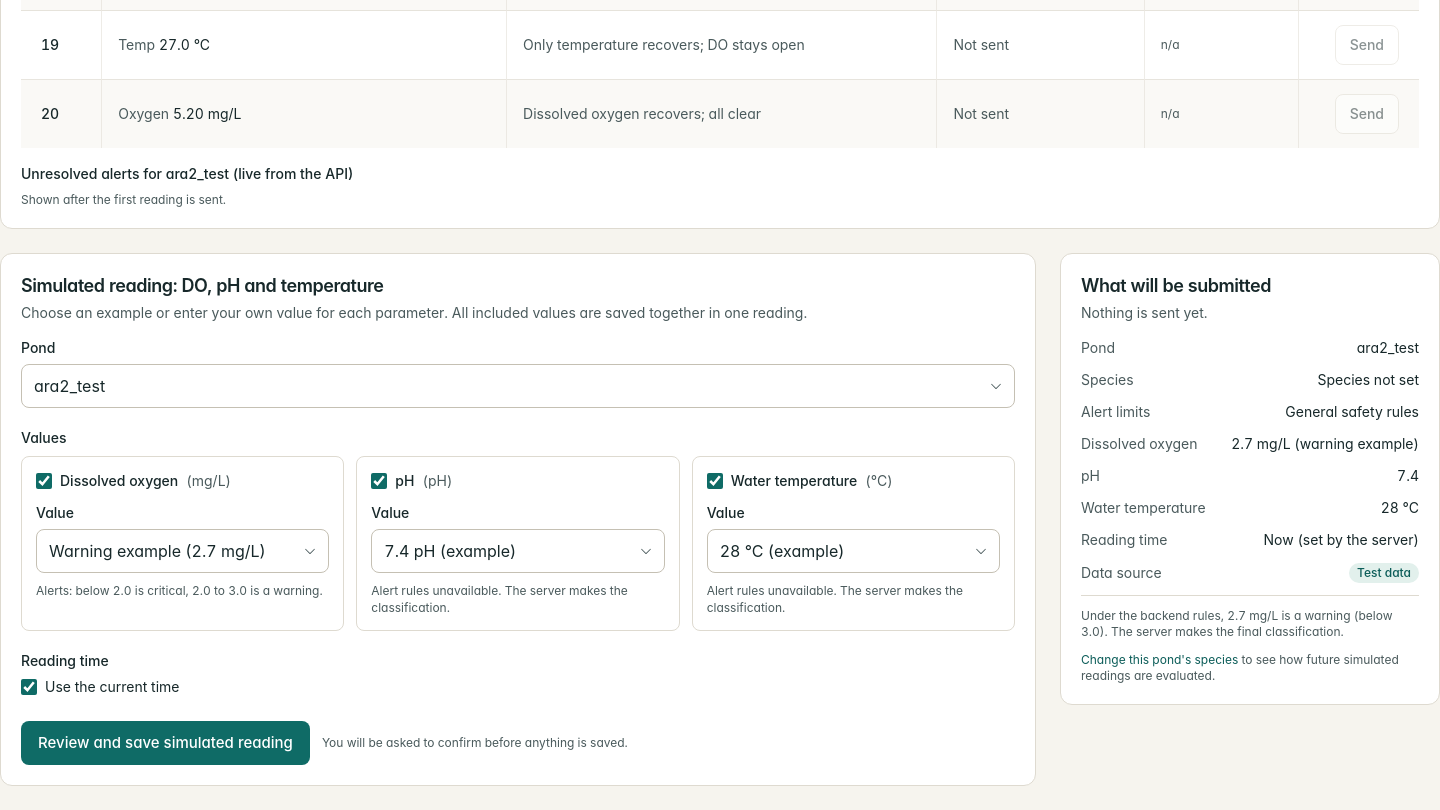
simulation: one reading, three parameters › presets: DO preset is sent as a scenario, pH and temperature presets as numbers
(page scrolled)
Expected: the heading "Simulated reading: DO, pH and temperature" is shown, [21, 275, 384, 296]
Step 1. Select "Critical example (1.8 mg/L)" in the 1st dropdown labelled "Value" → point(183, 551), box [36, 529, 329, 573]
(page scrolled)
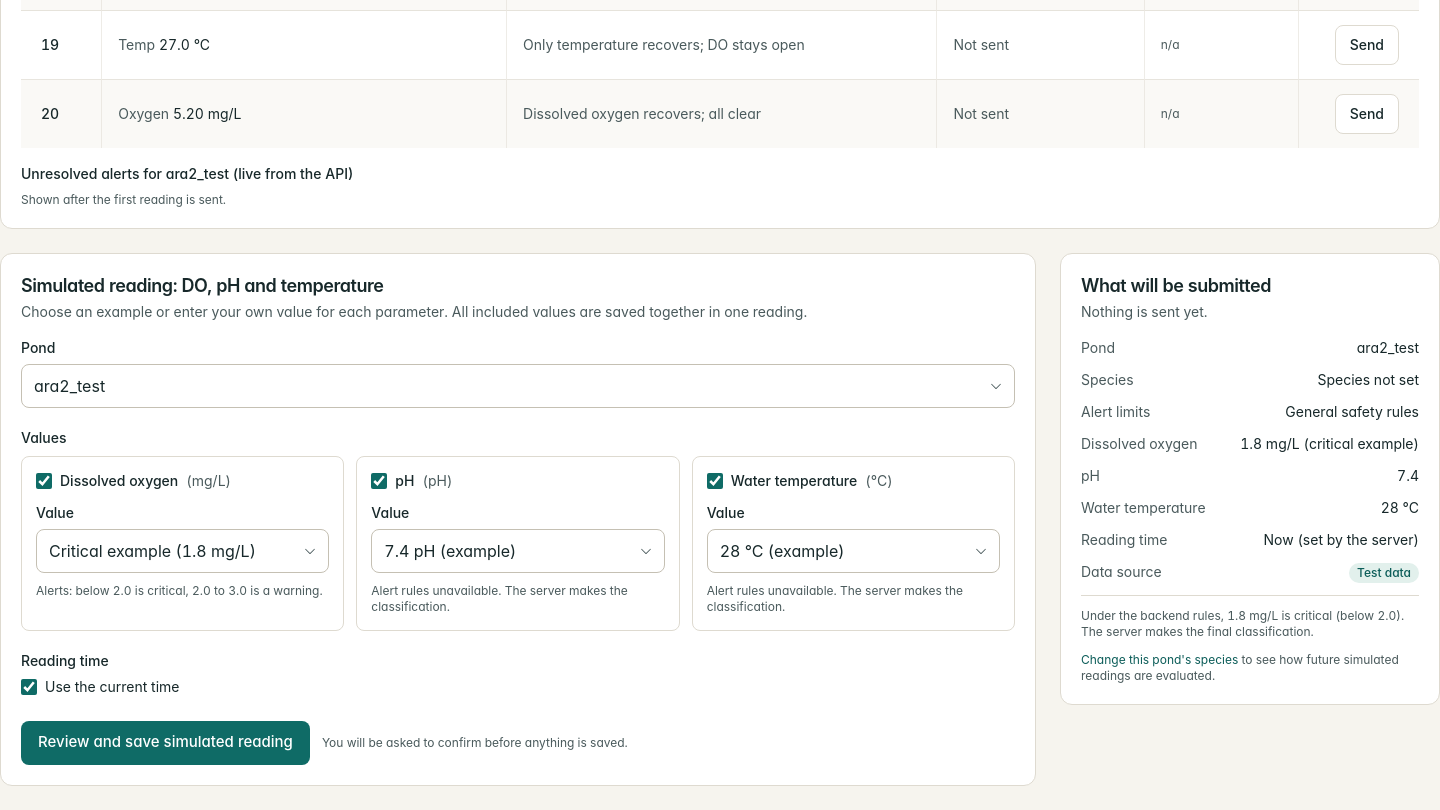
Step 2. Select "8.5 pH (example)" in the 2nd dropdown labelled "Value" → point(518, 550), box [371, 528, 665, 572]
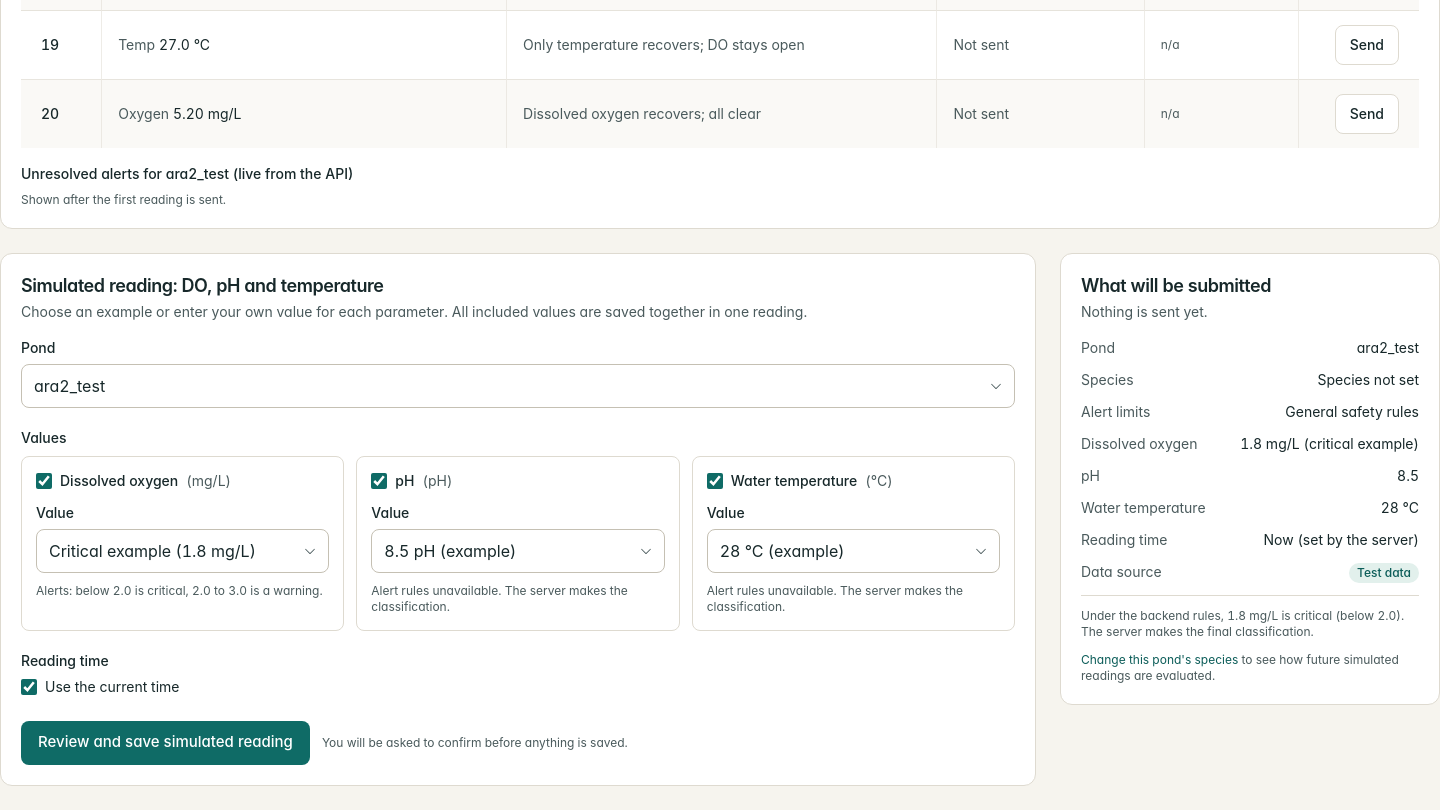
Step 3. Select "32 °C (example)" in the 3rd dropdown labelled "Value" → point(853, 550), box [707, 528, 1000, 572]
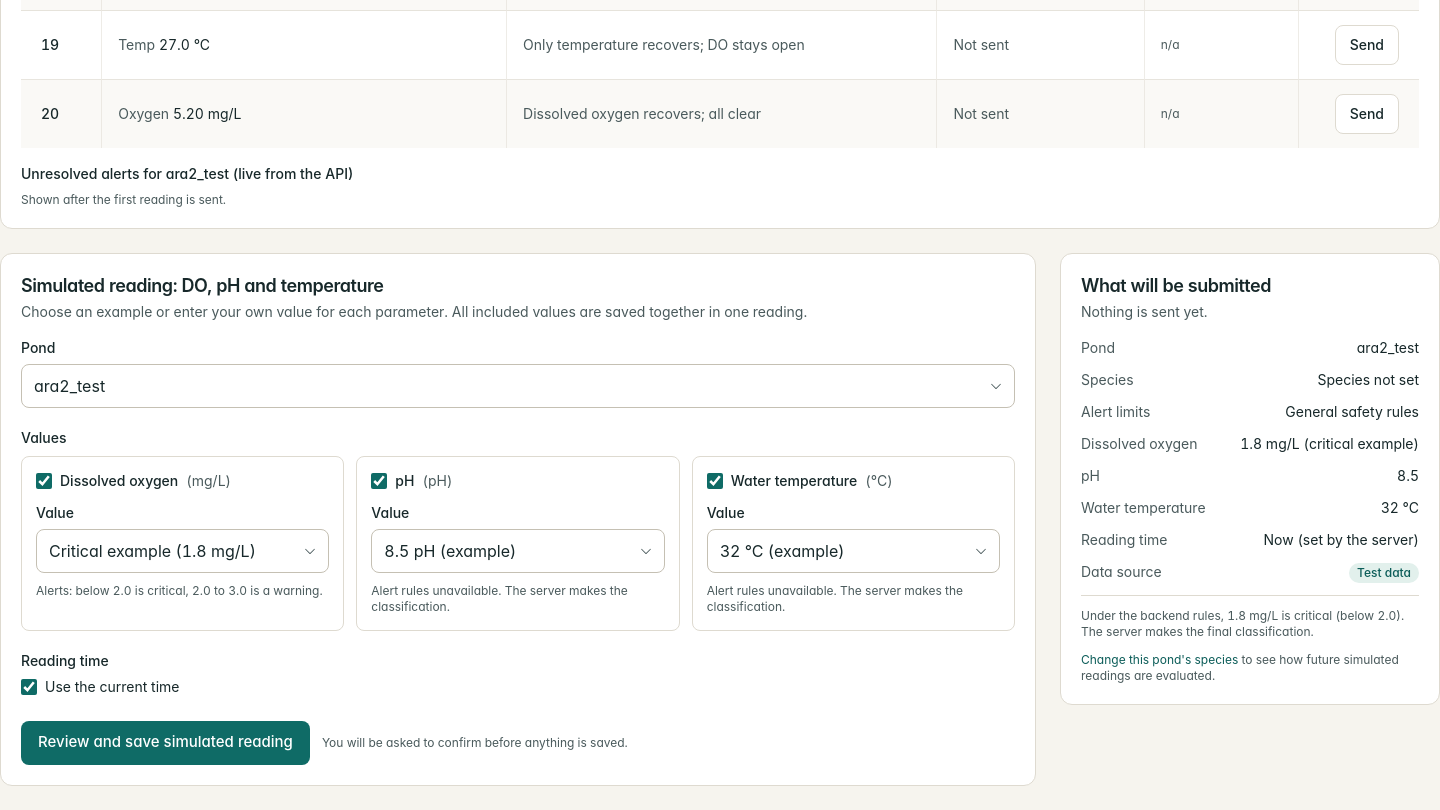
Step 4. Click the button "Review and save simulated reading" → point(165, 742), box [21, 720, 310, 764]
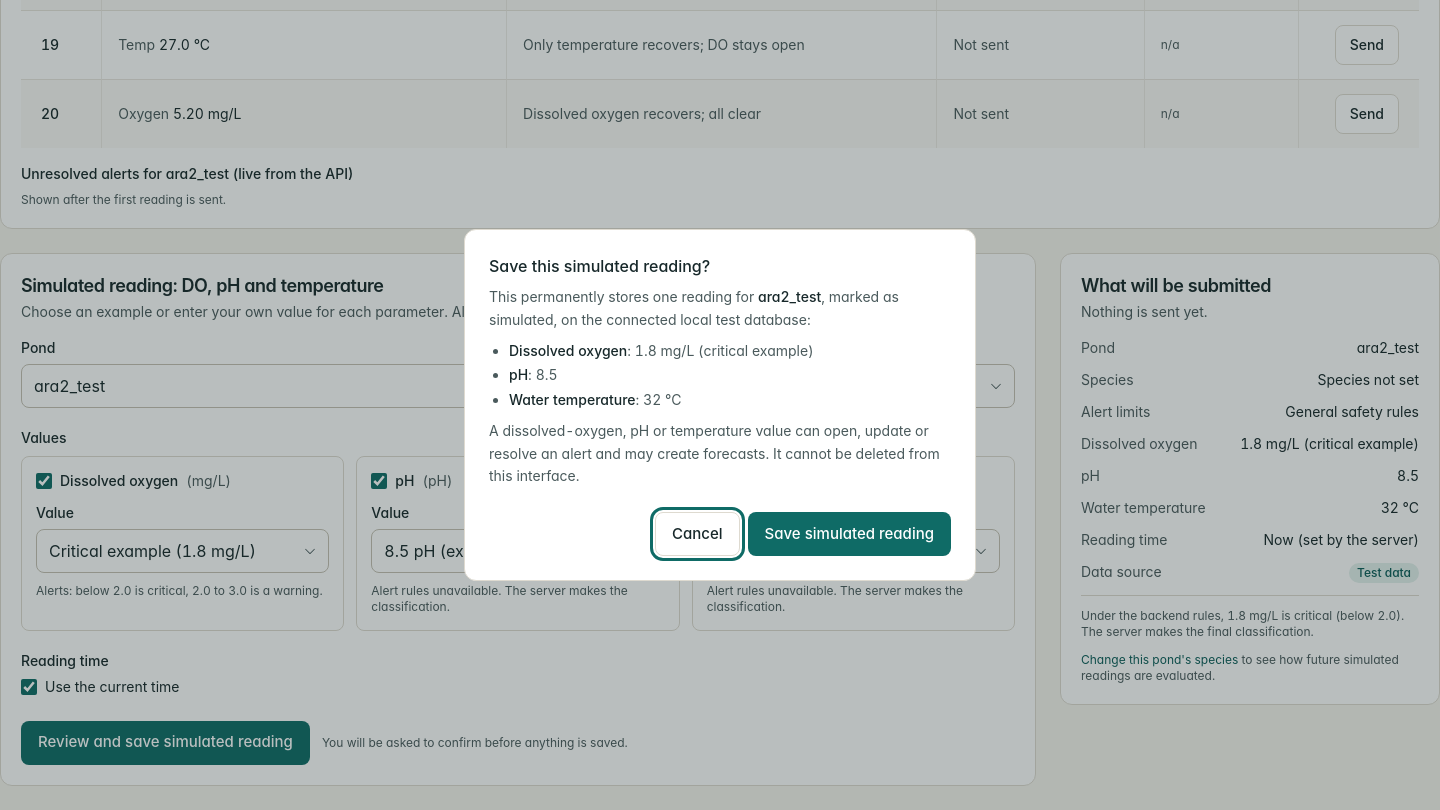
Step 5. Click the button "Save simulated reading" → point(849, 534), box [748, 512, 951, 556]
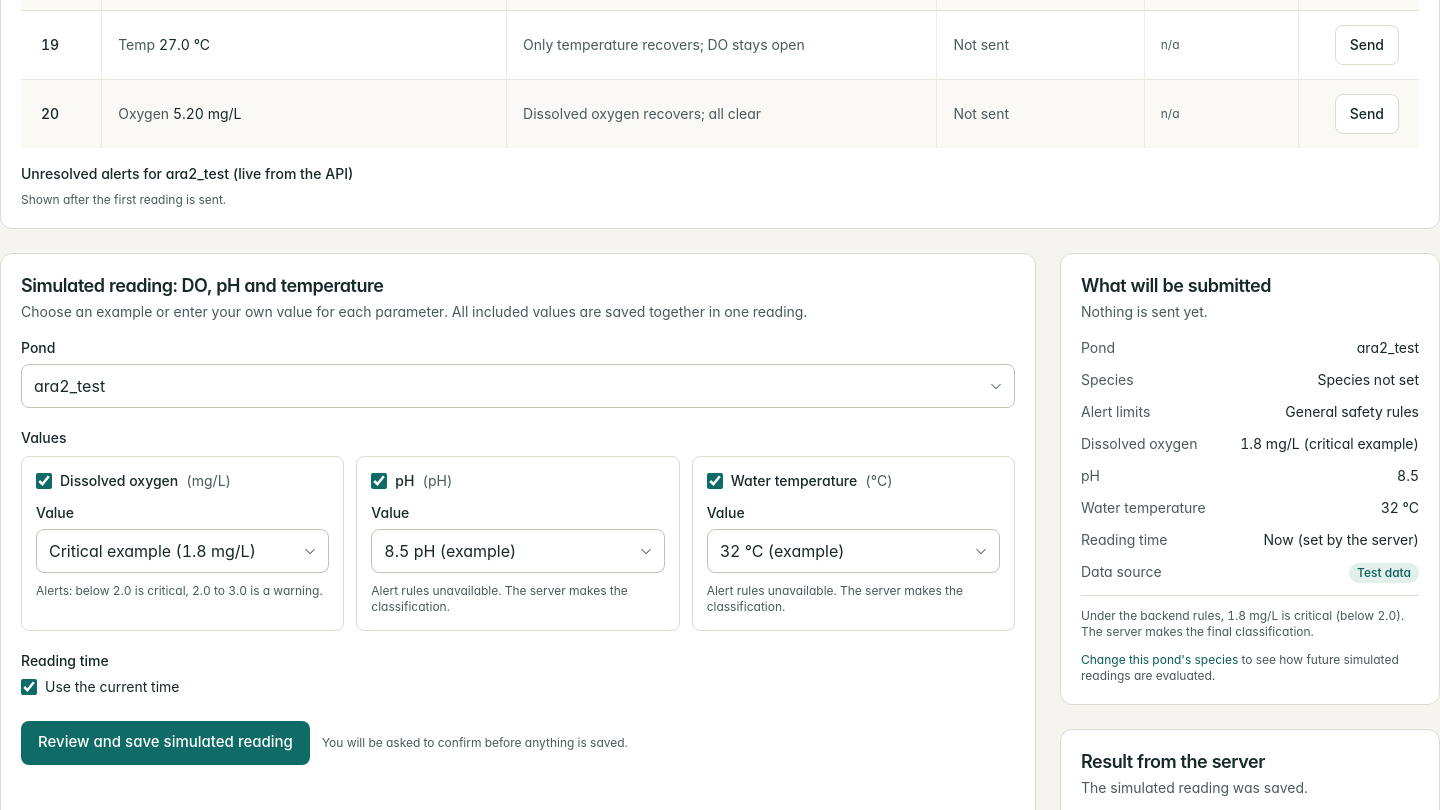
Now the heading "Result from the server" is shown, box [1081, 750, 1265, 772]
